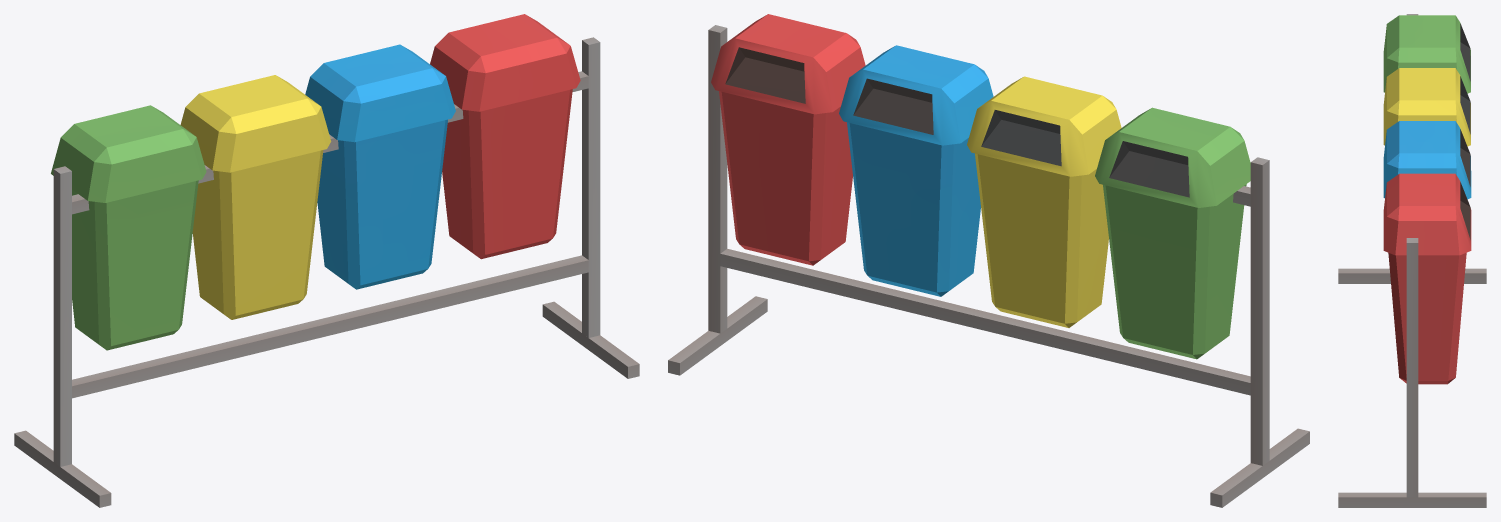
The model's file is Dustbin.fbx.
3 renders of one model, left to right at view 1: azimuth 30°, elevation 25°; view 2: azimuth 150°, elevation 25°; view 3: azimuth 270°, elevation 25°, orthographic. The views are drawn at different scales.
Visible parts, largest first — view 1: Dustbin; view 2: Dustbin; view 3: Dustbin.
Boxes of the visible parts, x1,y1,x2,y2 form: Dustbin: (14, 14, 639, 507); Dustbin: (668, 14, 1309, 507); Dustbin: (1338, 14, 1486, 507).
Bounding box in the file's own units: 0.9672 × 0.5552 × 0.2649.
